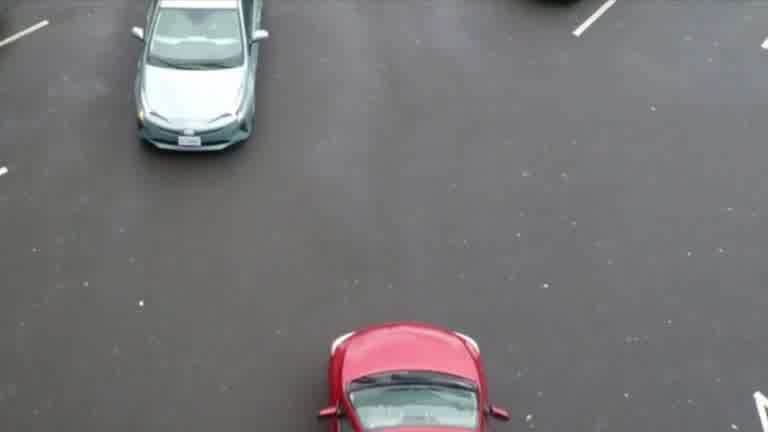car: (77, 0, 316, 212), (297, 297, 530, 432)
